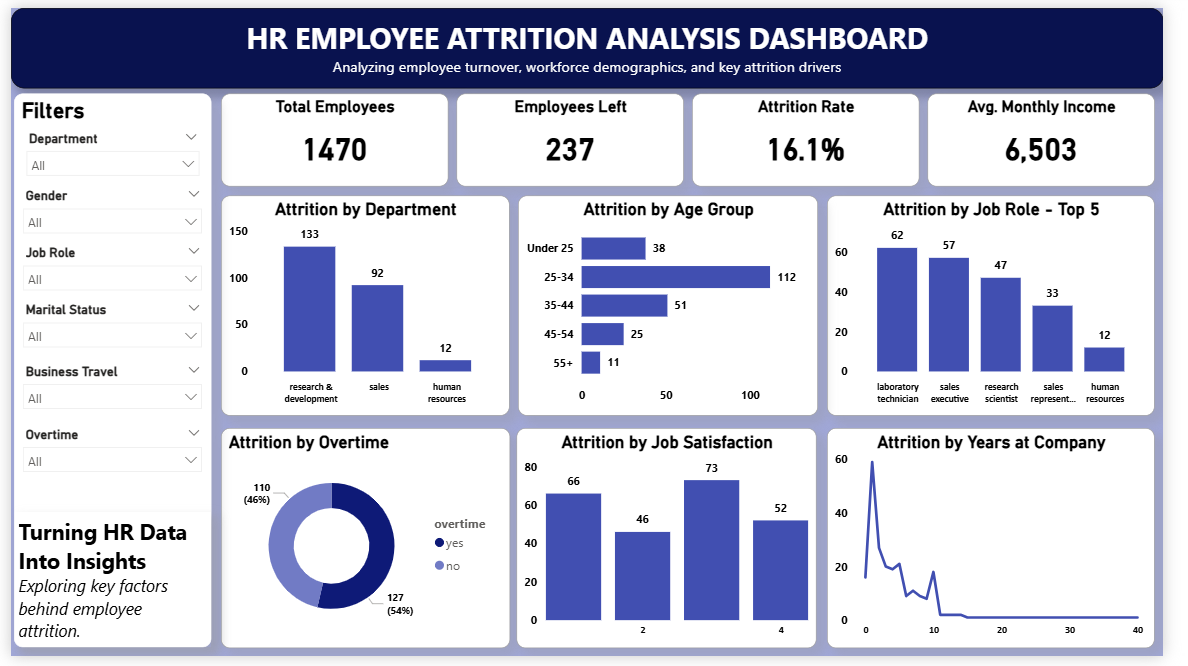

What the dashboard file says about the page in this screenshot:
{"tool":"powerbi","page":{"name":"Page 1","canvas":[1280,720],"ordinal":0},"visuals":[{"type":"textbox","box":[0,0,1280.8,89.1],"z":0},{"type":"card","title":"Total Employees","fields":{"Values":["HR-Employee-Attrition_cleaned.Total Employees"]},"box":[233.2,95.5,252.6,103.6],"z":1000},{"type":"card","title":"Employees Left","fields":{"Values":["HR-Employee-Attrition_cleaned.Employees Left"]},"box":[494.9,95.5,252.6,103.6],"z":2000},{"type":"card","title":"Attrition Rate","fields":{"Values":["HR-Employee-Attrition_cleaned.Attrition Rate"]},"box":[756.7,95.5,252.6,103.6],"z":3000},{"type":"card","title":"Avg. Monthly Income","fields":{"Values":["HR-Employee-Attrition_cleaned.Average Monthly Income"]},"box":[1018.5,95.5,252.6,103.6],"z":4000},{"type":"clusteredColumnChart","title":"Attrition by Department","fields":{"Category":["HR-Employee-Attrition_cleaned.department"],"Y":["HR-Employee-Attrition_cleaned.Employees Left"]},"box":[233.2,208.9,320.6,244.5],"z":5000},{"type":"clusteredColumnChart","title":"Attrition by Job Role - Top 5","fields":{"Category":["HR-Employee-Attrition_cleaned.jobrole"],"Y":["HR-Employee-Attrition_cleaned.Employees Left"]},"box":[906.8,208.9,364.3,244.5],"z":6000},{"type":"clusteredBarChart","title":"Attrition by Age Group","fields":{"Y":["HR-Employee-Attrition_cleaned.Employees Left"],"Category":["HR-Employee-Attrition_cleaned.Age Group"]},"box":[563.5,208.9,333.6,244.5],"z":7000},{"type":"donutChart","title":"Attrition by Overtime","fields":{"Category":["HR-Employee-Attrition_cleaned.overtime"],"Y":["HR-Employee-Attrition_cleaned.Employees Left"]},"box":[233.8,466,321.3,245],"z":8000},{"type":"slicer","title":"Filters","fields":{"Values":["HR-Employee-Attrition_cleaned.department"]},"box":[2.8,95.1,219.5,615.6],"z":9000},{"type":"slicer","fields":{"Values":["HR-Employee-Attrition_cleaned.gender"]},"box":[3.4,194.5,219,93.1],"z":10000},{"type":"clusteredColumnChart","title":"Attrition by Job Satisfaction","fields":{"Category":["HR-Employee-Attrition_cleaned.jobsatisfaction"],"Y":["HR-Employee-Attrition_cleaned.Employees Left"]},"box":[561.9,466.3,333.6,244.5],"z":11000},{"type":"lineChart","title":"Attrition by Years at Company","fields":{"Category":["HR-Employee-Attrition_cleaned.yearsatcompany"],"Y":["HR-Employee-Attrition_cleaned.Employees Left"]},"box":[906.8,466.3,364.3,244.5],"z":12000},{"type":"slicer","fields":{"Values":["HR-Employee-Attrition_cleaned.jobrole"]},"box":[3.4,258.3,219,110.3],"z":13000},{"type":"slicer","fields":{"Values":["HR-Employee-Attrition_cleaned.maritalstatus"]},"box":[3.4,322.1,219,113.8],"z":14000},{"type":"slicer","fields":{"Values":["HR-Employee-Attrition_cleaned.businesstravel"]},"box":[3.4,389.4,219,103.4],"z":15000},{"type":"slicer","fields":{"Values":["HR-Employee-Attrition_cleaned.overtime"]},"box":[3.4,460.1,219,124.1],"z":16000},{"type":"textbox","box":[3.4,560.1,219,150],"z":17000}]}

Visuals, with their boxes in screenshot pixels (x1, y1, x2, y2), scaled from the page's 1280x720 canvas onto the 1188x666 screenshot:
textbox: 0:0:1187:82
"Total Employees" card: 216:88:451:184
"Employees Left" card: 459:88:694:184
"Attrition Rate" card: 702:88:937:184
"Avg. Monthly Income" card: 945:88:1180:184
"Attrition by Department" clusteredColumnChart: 216:193:514:419
"Attrition by Job Role - Top 5" clusteredColumnChart: 842:193:1180:419
"Attrition by Age Group" clusteredBarChart: 523:193:833:419
"Attrition by Overtime" donutChart: 217:431:515:658
"Filters" slicer: 3:88:206:657
slicer - HR-Employee-Attrition_cleaned.gender: 3:180:206:266
"Attrition by Job Satisfaction" clusteredColumnChart: 522:431:831:657
"Attrition by Years at Company" lineChart: 842:431:1180:657
slicer - HR-Employee-Attrition_cleaned.jobrole: 3:239:206:341
slicer - HR-Employee-Attrition_cleaned.maritalstatus: 3:298:206:403
slicer - HR-Employee-Attrition_cleaned.businesstravel: 3:360:206:456
slicer - HR-Employee-Attrition_cleaned.overtime: 3:426:206:540
textbox: 3:518:206:657
